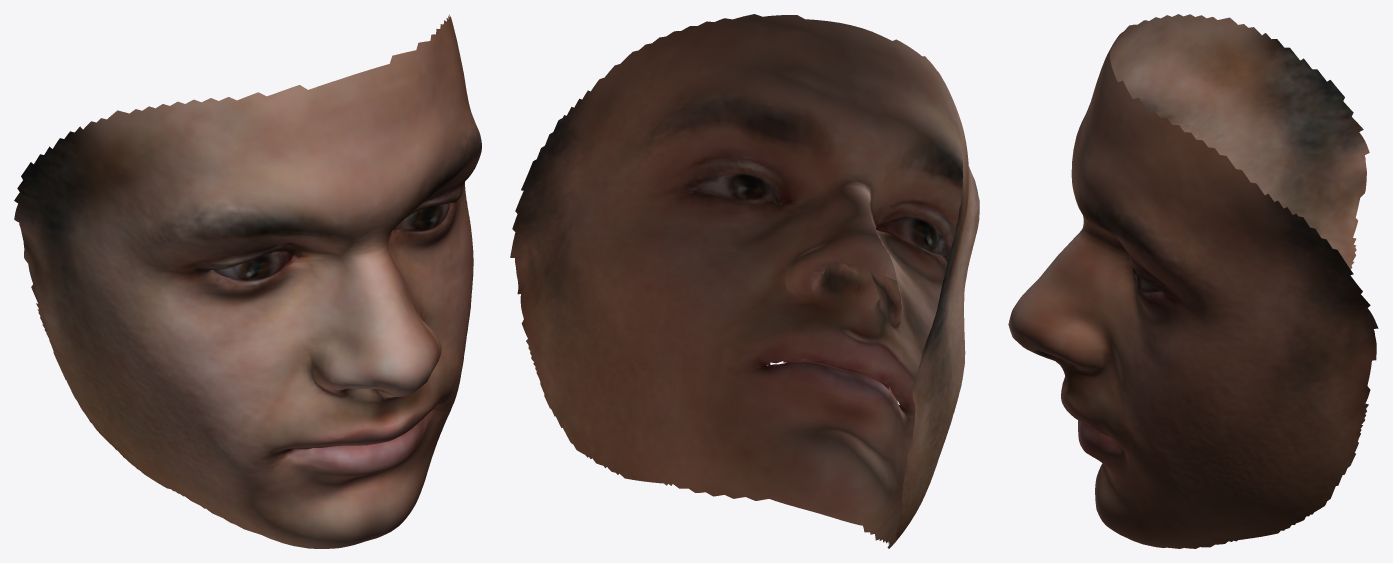
3 renders of one model, left to right at view 1: azimuth 30°, elevation 25°; view 2: azimuth 150°, elevation 25°; view 3: azimuth 270°, elevation 25°, orthographic. The views are drawn at different scales.
Parts seen in each view (by area): view 1: Mesh; view 2: Mesh; view 3: Mesh.
Part boxes in pixels (x1,y1,x2,y2): Mesh: (14,14,481,548); Mesh: (510,14,979,548); Mesh: (1008,14,1378,548).
Bounding box in the file's own units: 1.47 × 1.66 × 1.19.
